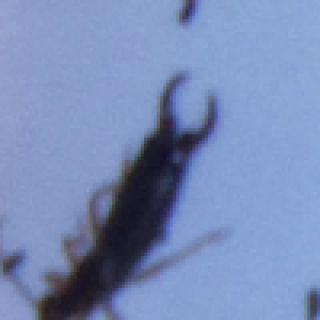earwig: (1, 65, 237, 320)
